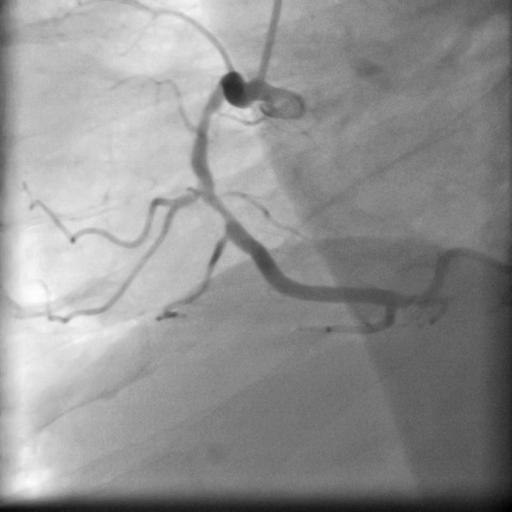Stenosis: (204, 189, 233, 224)
